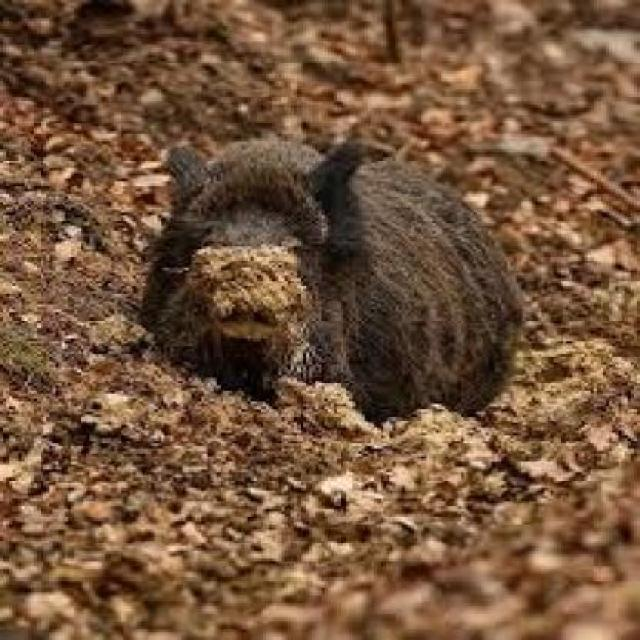wildboar: (128, 127, 524, 433)
